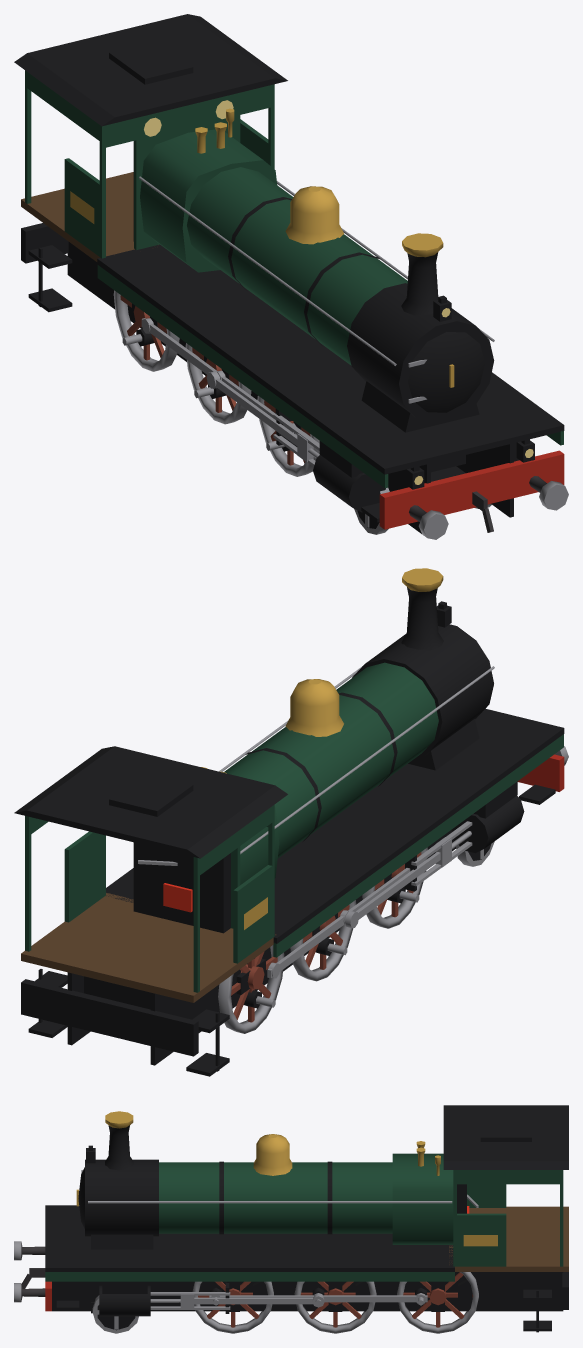
The model's file is loco.glb.
3 renders of one model, top to bottom at view 1: azimuth 30°, elevation 25°; view 2: azimuth 150°, elevation 25°; view 3: azimuth 270°, elevation 25°, orthographic. The views are drawn at different scales.
Parts seen in each view (by area): view 1: Body, Wheel3, Wheel2, RodL, Wheel1, ConL; view 2: Body, Wheel3, Wheel2, Wheel1, RodL, ConL; view 3: Body, Wheel3, Wheel2, Wheel1, RodR, ConR, Wheel4, CrossR.
Boxes of the visible parts, bbox=[...] form: Body: bbox=[14, 14, 568, 539]; Wheel3: bbox=[113, 290, 179, 371]; Wheel2: bbox=[185, 343, 251, 424]; RodL: bbox=[141, 318, 297, 435]; Wheel1: bbox=[257, 396, 319, 476]; ConL: bbox=[206, 371, 297, 445]; Body: bbox=[14, 568, 568, 1076]; Wheel3: bbox=[218, 945, 284, 1033]; Wheel2: bbox=[290, 900, 356, 981]; Wheel1: bbox=[362, 847, 427, 928]; RodL: bbox=[267, 861, 423, 978]; ConL: bbox=[345, 852, 440, 927]; Body: bbox=[14, 1105, 568, 1332]; Wheel3: bbox=[397, 1272, 478, 1333]; Wheel2: bbox=[294, 1281, 376, 1333]; Wheel1: bbox=[192, 1281, 273, 1333]; RodR: bbox=[209, 1293, 427, 1303]; ConR: bbox=[194, 1294, 324, 1307]; Wheel4: bbox=[92, 1295, 138, 1333]; CrossR: bbox=[150, 1294, 194, 1309].
Size of the model in its own units: 2.7 by 3.81 by 9.75.
